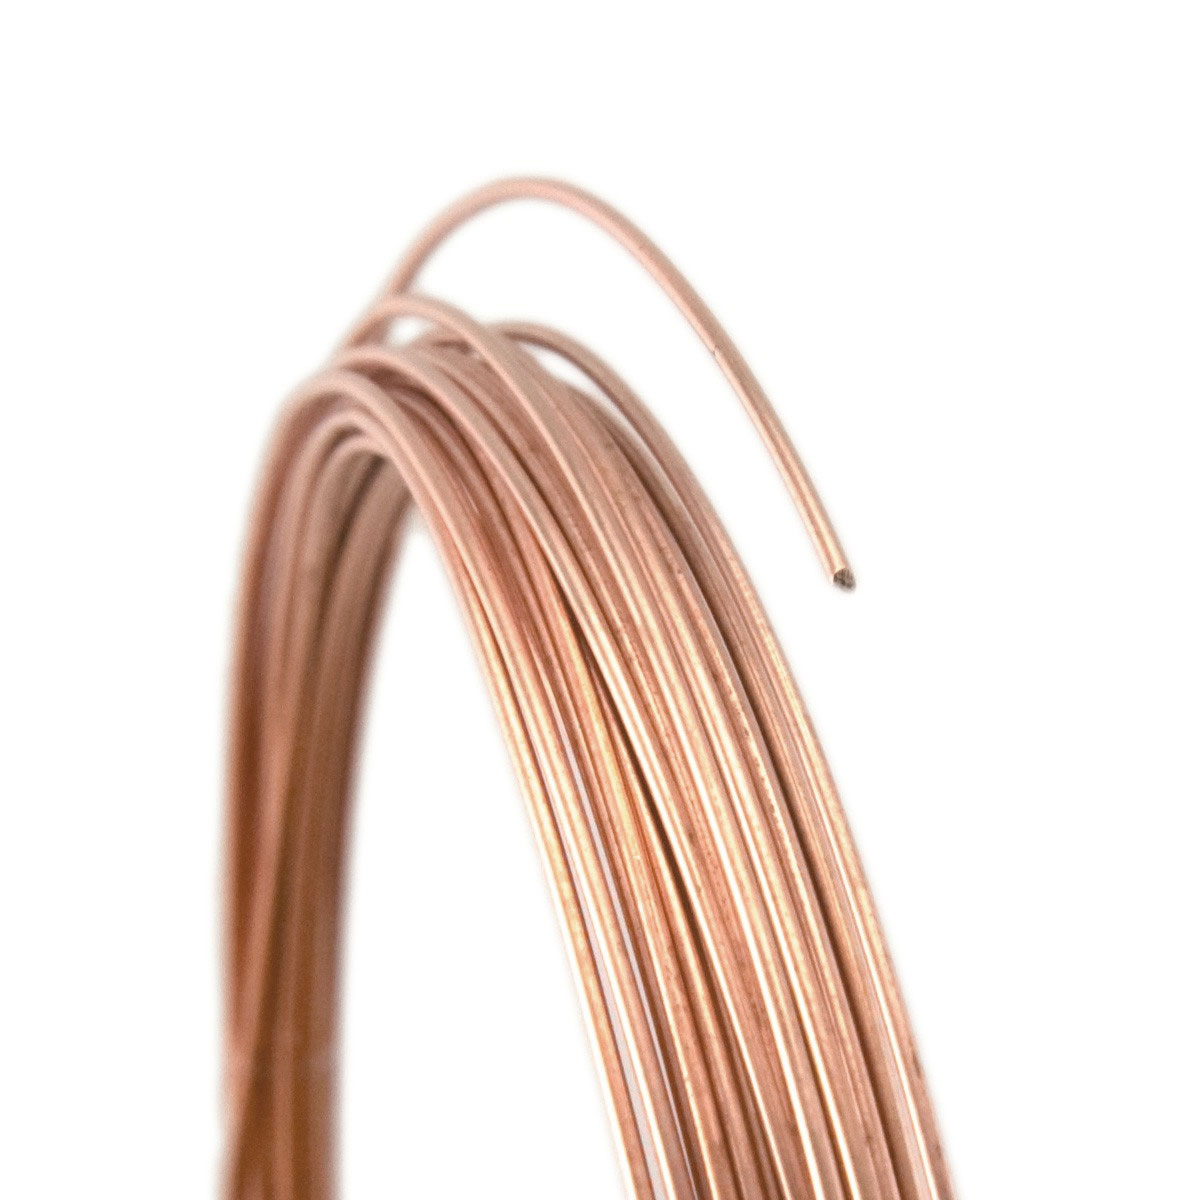Nonrec_Tangler: (167, 167, 949, 1149)
